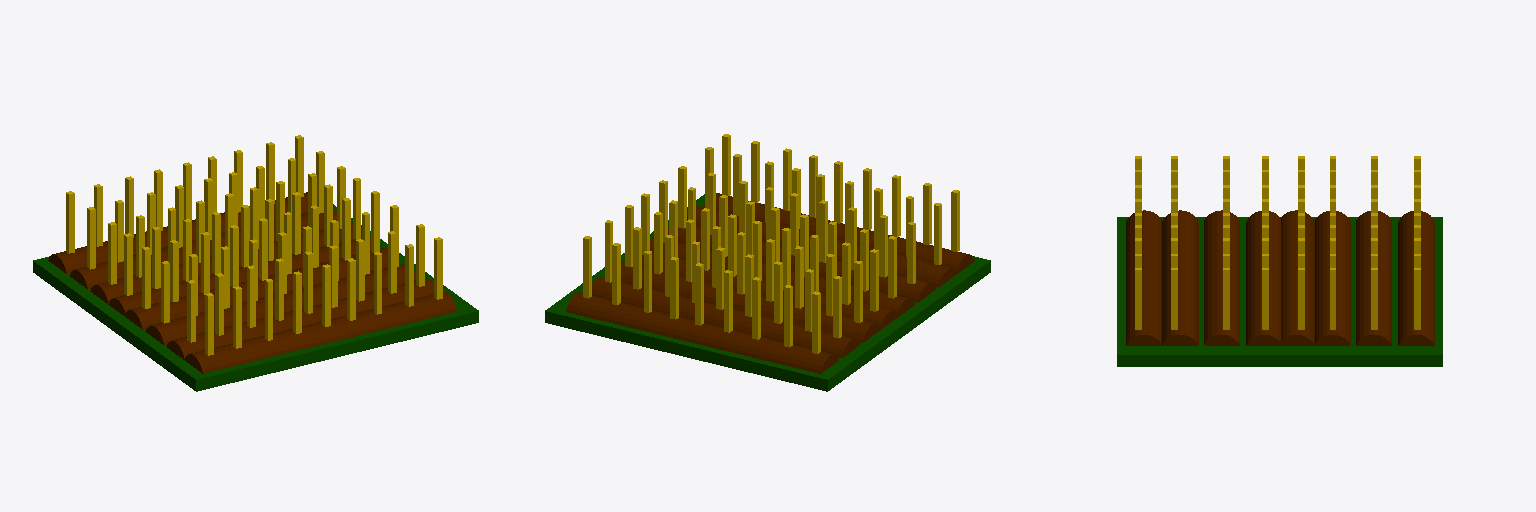
File: field.obj
The picture shows the model from 3 angles: view 1: azimuth 30°, elevation 25°; view 2: azimuth 150°, elevation 25°; view 3: azimuth 270°, elevation 25°; orthographic projection.
Parts seen in each view (by area): view 1: Box, Cylinder, Cylinder1, Cylinder2, Cylinder3, Cylinder4, Cylinder7, Cylinder6, Cylinder5, Box8, Box18, Box39 (+28 smaller); view 2: Box, Cylinder7, Cylinder6, Cylinder5, Cylinder, Cylinder1, Cylinder2, Cylinder4, Cylinder3, Box58, Box65, Box44 (+26 smaller); view 3: Box, Cylinder1, Cylinder7, Cylinder5, Cylinder, Cylinder2, Cylinder6, Cylinder3, Cylinder4.
Boxes of the visible parts, box(x1,y1,x2,y2) form: Box: box(33, 204, 478, 391); Cylinder: box(185, 292, 456, 373); Cylinder1: box(167, 279, 433, 359); Cylinder2: box(146, 264, 415, 344); Cylinder3: box(125, 248, 387, 329); Cylinder4: box(109, 237, 370, 315); Cylinder7: box(48, 192, 307, 273); Cylinder6: box(70, 209, 336, 289); Cylinder5: box(90, 223, 361, 304); Box8: box(205, 293, 213, 355); Box18: box(416, 224, 424, 286); Box39: box(292, 192, 300, 254); Box: box(545, 194, 990, 391); Cylinder7: box(566, 292, 838, 373); Cylinder6: box(592, 277, 859, 357); Cylinder5: box(621, 261, 880, 342); Cylinder: box(704, 193, 974, 273); Cylinder1: box(687, 206, 956, 287); Cylinder2: box(668, 226, 935, 302); Cylinder4: box(642, 251, 898, 329); Cylinder3: box(650, 237, 914, 315); Box58: box(633, 227, 641, 289); Box65: box(670, 257, 678, 319); Box44: box(870, 249, 878, 311); Box: box(1117, 217, 1442, 366); Cylinder1: box(1162, 210, 1198, 345); Cylinder7: box(1398, 211, 1434, 345); Cylinder5: box(1315, 211, 1350, 345); Cylinder: box(1126, 210, 1161, 345); Cylinder2: box(1204, 210, 1239, 345); Cylinder6: box(1356, 211, 1391, 345); Cylinder3: box(1246, 211, 1281, 345); Cylinder4: box(1281, 210, 1314, 345).
Bounding box in the file's own units: 5 × 1.4 × 5.